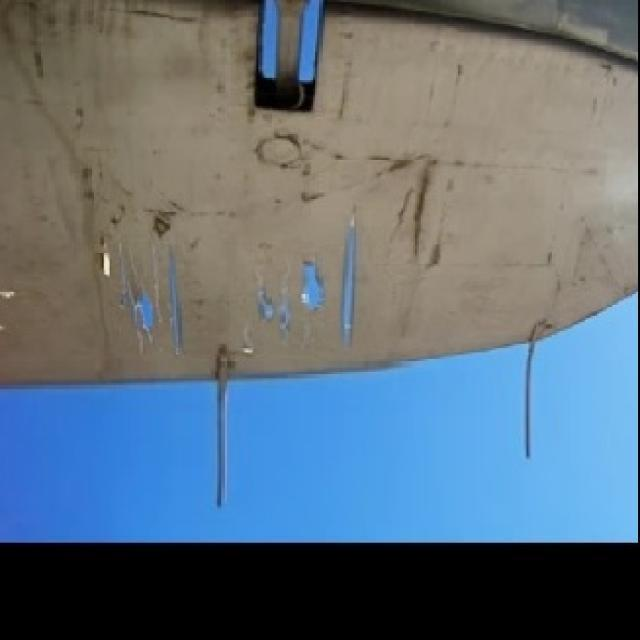crack: (115, 195, 368, 353)
